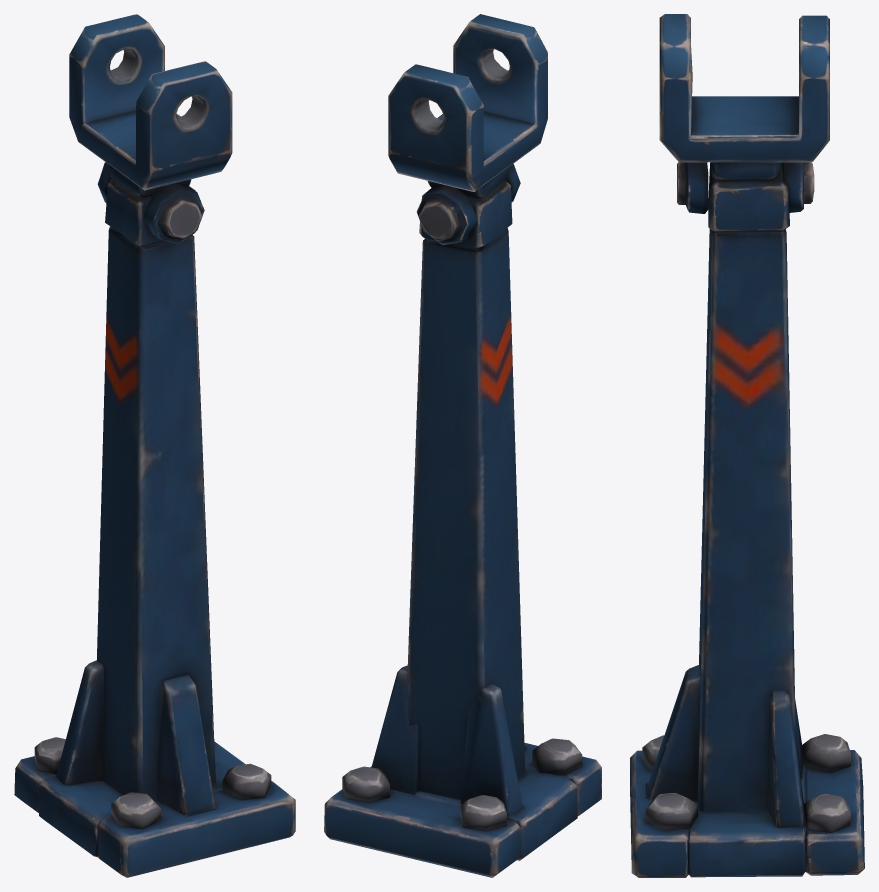
3 views of the same model, side by side, from view 1: azimuth 30°, elevation 25°; view 2: azimuth 150°, elevation 25°; view 3: azimuth 270°, elevation 25° (orthographic). The views are drawn at different scales.
Parts seen in each view (by area): view 1: tripo_node_fd6b2548-183b-4b75-aff8-e5ab3d7cda9b; view 2: tripo_node_fd6b2548-183b-4b75-aff8-e5ab3d7cda9b; view 3: tripo_node_fd6b2548-183b-4b75-aff8-e5ab3d7cda9b.
Part boxes in pixels (x1,y1,x2,y2): tripo_node_fd6b2548-183b-4b75-aff8-e5ab3d7cda9b: (14,14,295,877); tripo_node_fd6b2548-183b-4b75-aff8-e5ab3d7cda9b: (324,14,601,877); tripo_node_fd6b2548-183b-4b75-aff8-e5ab3d7cda9b: (630,14,864,877).
Size of the model in its own units: 0.2402 by 0.998 by 0.2637.
Materials: 1 (1 with a texture image).
